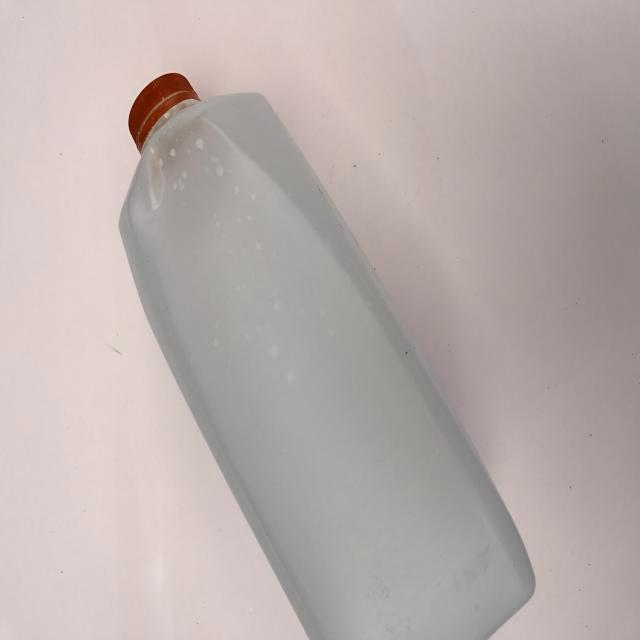plastic: (104, 61, 545, 638)
